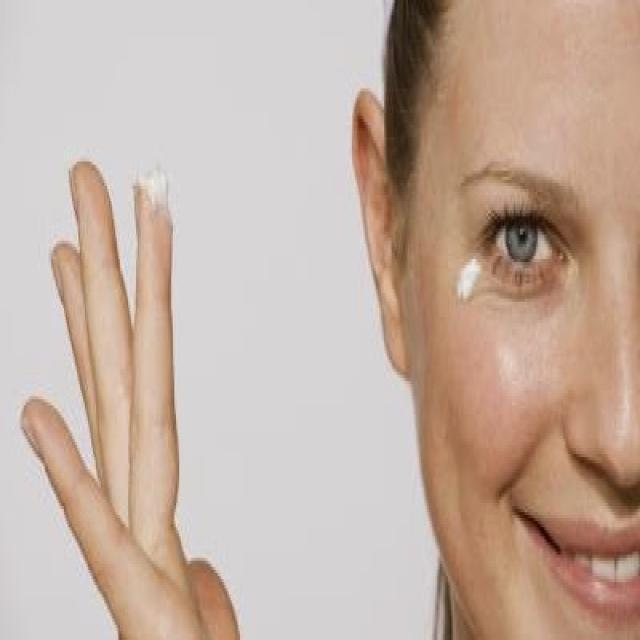oily: (604, 350, 636, 476), (496, 341, 526, 406)
